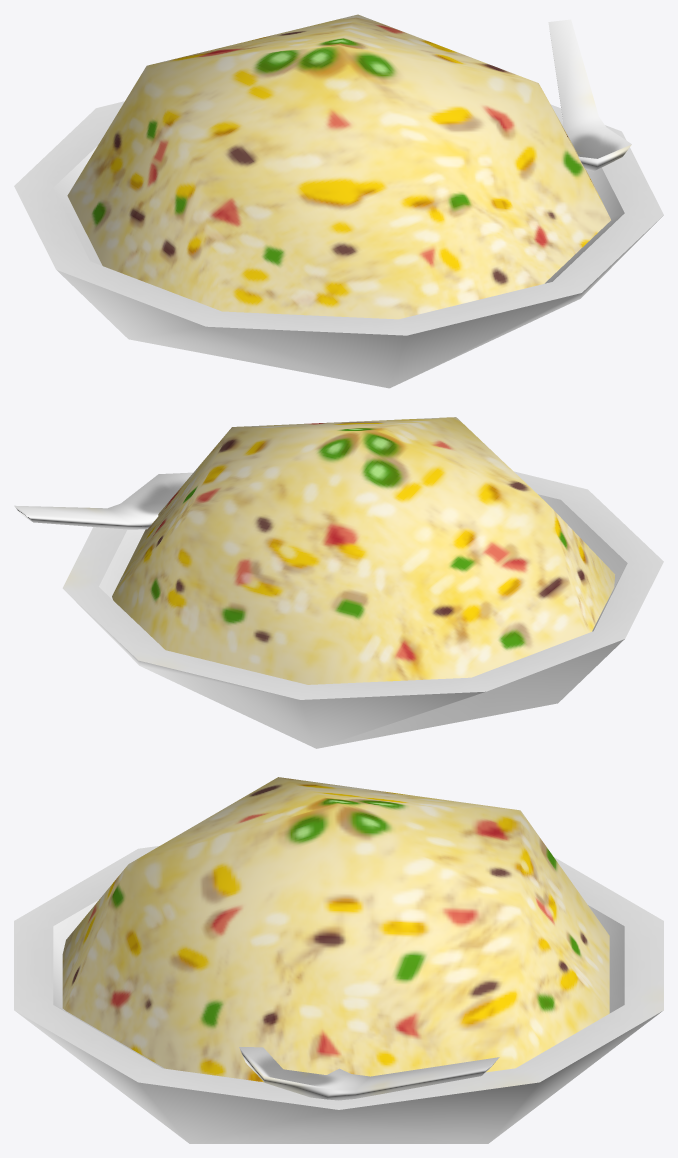
Rendered from rice.fbx.
3 renders of one model, top to bottom at view 1: azimuth 30°, elevation 25°; view 2: azimuth 150°, elevation 25°; view 3: azimuth 270°, elevation 25°, orthographic. The views are drawn at different scales.
Parts seen in each view (by area): view 1: rice; view 2: rice; view 3: rice.
Boxes of the visible parts, <box> form: rice: <box>14,14,663,388</box>; rice: <box>14,417,663,748</box>; rice: <box>14,777,663,1143</box>.
Bounding box in the file's own units: 2.63 × 1.03 × 2.41.
Materials: 1 (1 with a texture image).
